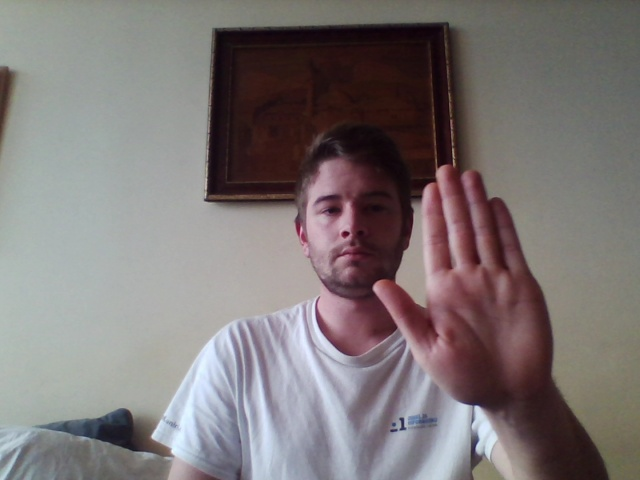pozdrav: (370, 161, 558, 404)
